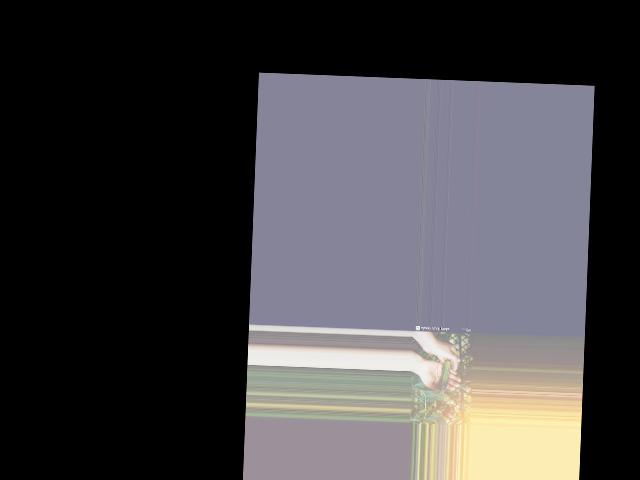cucumber: (438, 359, 451, 390)
